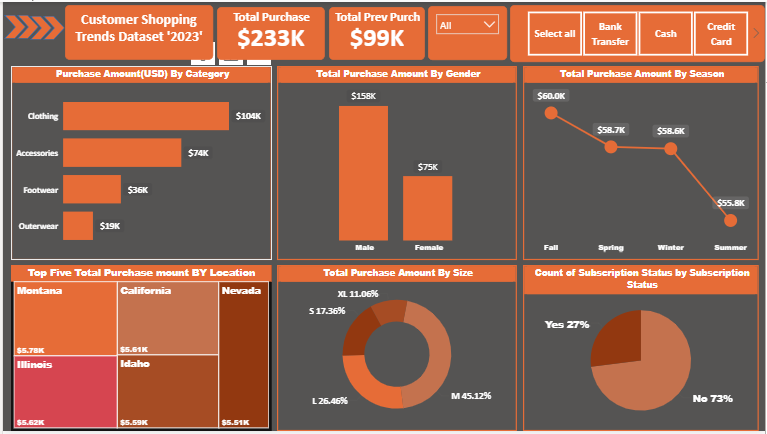

The dashboard page shown, as its layout file describes it:
{"tool":"powerbi","page":{"name":"Page 1","canvas":[1280,720],"ordinal":0},"visuals":[{"type":"clusteredBarChart","title":"Purchase Amount(USD) By Category","fields":{"Category":["shopping_trends.Category"],"Y":["Sum(shopping_trends.Purchase Amount (USD))"]},"box":[13.4,107.2,438.4,325.9],"z":0},{"type":"clusteredColumnChart","title":"Total Purchase Amount By Gender","fields":{"Category":["shopping_trends.Gender"],"Y":["Sum(shopping_trends.Purchase Amount (USD))"]},"box":[460.3,107.2,403.1,325.9],"z":1000},{"type":"lineChart","title":"Total Purchase Amount By Season","fields":{"Category":["shopping_trends.Season"],"Y":["Sum(shopping_trends.Purchase Amount (USD))"]},"box":[873.5,107.2,396.4,325.9],"z":2000},{"type":"treemap","title":"Top Five Total Purchase mount BY Location ","fields":{"Group":["shopping_trends.Location"],"Values":["Sum(shopping_trends.Purchase Amount (USD))"]},"box":[13.4,441.8,438.4,278.8],"z":3000},{"type":"donutChart","title":"Total Purchase Amount By Size","fields":{"Category":["shopping_trends.Size"],"Y":["Sum(shopping_trends.Purchase Amount (USD))"]},"box":[460.3,441.8,403.1,278.8],"z":4000},{"type":"pieChart","fields":{"Category":["shopping_trends.Subscription Status"],"Y":["CountNonNull(shopping_trends.Subscription Status)"]},"box":[873.5,441.8,396.4,278.8],"z":5000},{"type":"textbox","box":[104.1,8.4,248.6,92.4],"z":6000},{"type":"slicer","fields":{"Values":["shopping_trends.Preferred Payment Method"]},"box":[851.7,5,428.3,95.7],"z":7000},{"type":"shape","box":[1.7,21.8,37,40.3],"z":8000},{"type":"shape","box":[23.5,21.8,37,40.3],"z":9000},{"type":"shape","box":[45.4,23.5,37,40.3],"z":10000},{"type":"shape","box":[67.2,23.5,37,40.3],"z":11000},{"type":"card","title":"Total Prev Purch","fields":{"Values":["Sum(shopping_trends.Previous Purchases)"]},"box":[547.6,6.7,161.3,94.1],"z":12000},{"type":"card","title":"Total Purchase","fields":{"Values":["Sum(shopping_trends.Purchase Amount (USD))"]},"box":[362.8,8.4,181.4,92.4],"z":13000},{"type":"slicer","fields":{"Values":["shopping_trends.Age Group"]},"box":[713.9,6.7,132.7,90.7],"z":14000}]}

Visuals, with their boxes in screenshot pixels (x1, y1, x2, y2), scaled from the page's 1280x720 canvas onto the 767x434 screenshot:
"Purchase Amount(USD) By Category" clusteredBarChart: [8,65,271,261]
"Total Purchase Amount By Gender" clusteredColumnChart: [276,65,517,261]
"Total Purchase Amount By Season" lineChart: [523,65,761,261]
"Top Five Total Purchase mount BY Location " treemap: [8,266,271,433]
"Total Purchase Amount By Size" donutChart: [276,266,517,433]
pieChart - shopping_trends.Subscription Status x CountNonNull(shopping_trends.Subscription Status): [523,266,761,433]
textbox: [62,5,211,61]
slicer - shopping_trends.Preferred Payment Method: [510,3,766,61]
shape: [1,13,23,37]
shape: [14,13,36,37]
shape: [27,14,49,38]
shape: [40,14,62,38]
"Total Prev Purch" card: [328,4,425,61]
"Total Purchase" card: [217,5,326,61]
slicer - shopping_trends.Age Group: [428,4,507,59]
